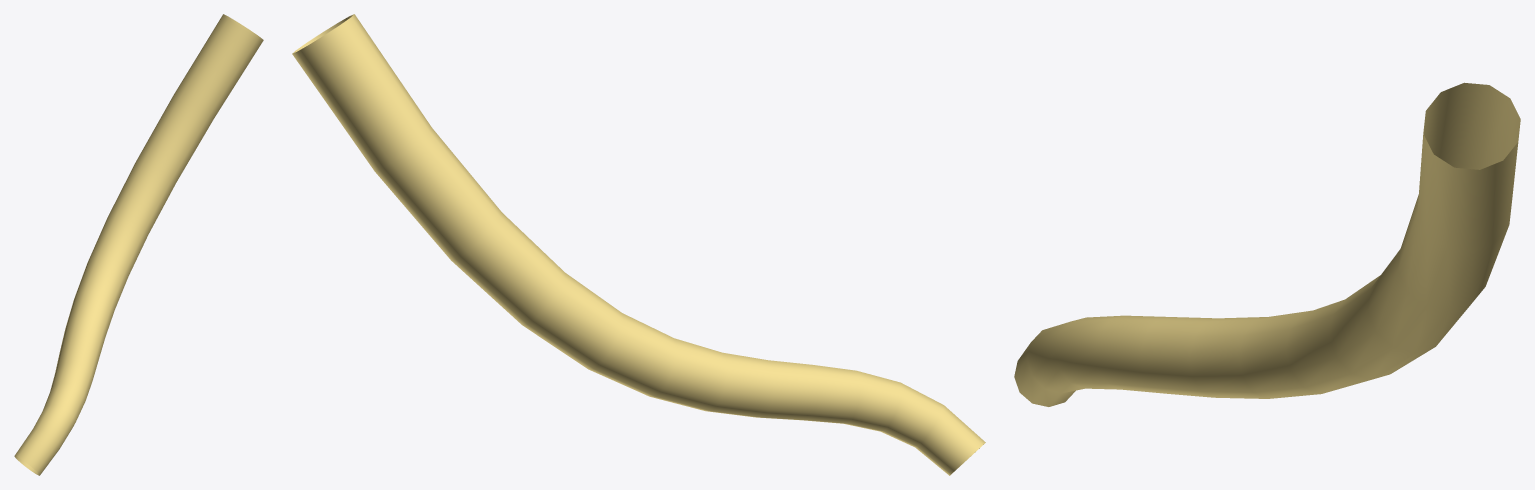
The picture shows the model from 3 angles, left to right: view 1: azimuth 30°, elevation 25°; view 2: azimuth 150°, elevation 25°; view 3: azimuth 270°, elevation 25°; orthographic projection. The views are drawn at different scales.
Visible parts, largest first — view 1: ZA_da6fce5b31c18225; view 2: ZA_da6fce5b31c18225; view 3: ZA_da6fce5b31c18225.
Part boxes in pixels (x1,y1,x2,y2): ZA_da6fce5b31c18225: (14, 14, 263, 475); ZA_da6fce5b31c18225: (292, 14, 985, 475); ZA_da6fce5b31c18225: (1014, 82, 1520, 406).
Bounding box in the file's own units: 0.0244 × 0.0206 × 0.0154.
